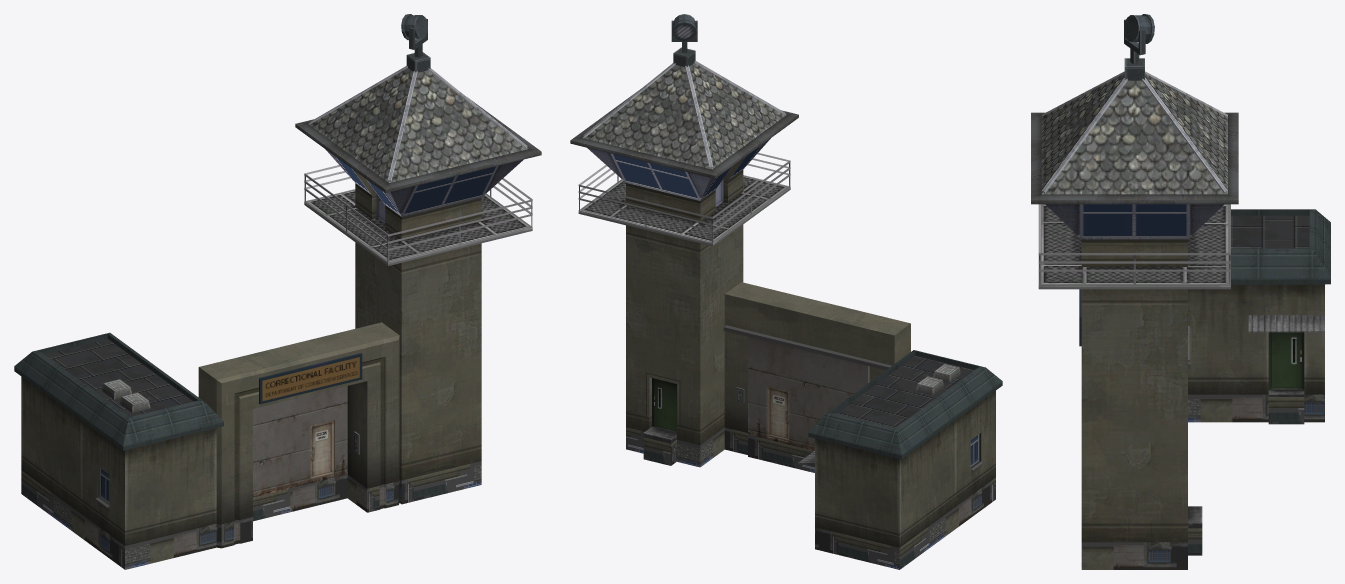
File: MainWatchTower.fbx
3 renders of one model, left to right at view 1: azimuth 30°, elevation 25°; view 2: azimuth 150°, elevation 25°; view 3: azimuth 270°, elevation 25°, orthographic. The views are drawn at different scales.
Visible parts, largest first — view 1: Prison.002; view 2: Prison.002; view 3: Prison.002.
Boxes of the visible parts, x1,y1,x2,y2 form: Prison.002: (14, 14, 541, 569); Prison.002: (570, 14, 1002, 569); Prison.002: (1031, 14, 1330, 569).
Bounding box in the file's own units: 1736 × 1930 × 986.
